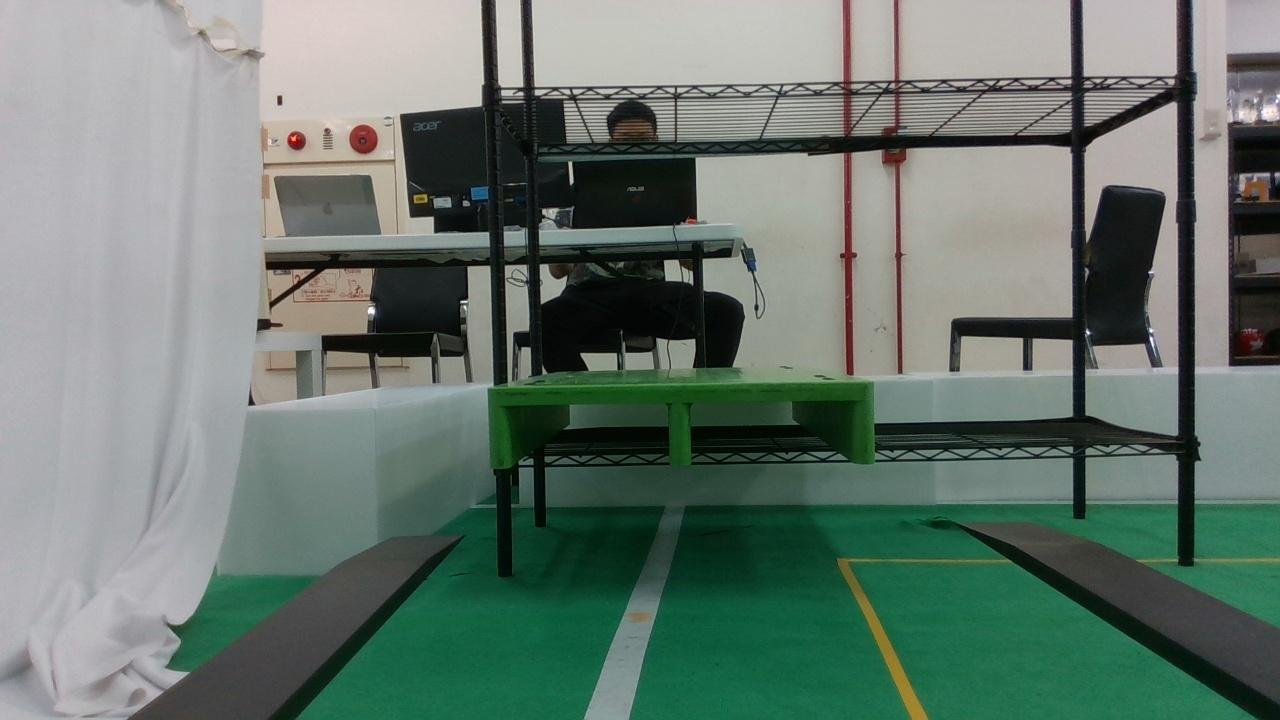Pallet: (488, 381, 879, 473)
